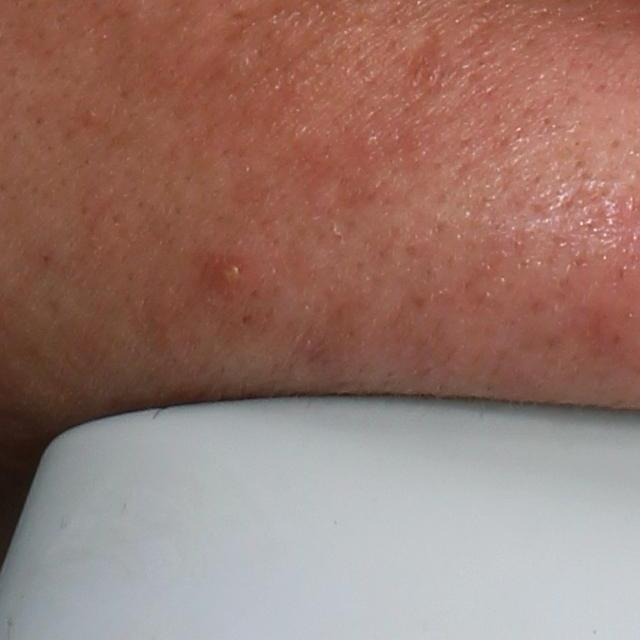pustule: (204, 254, 249, 294)
